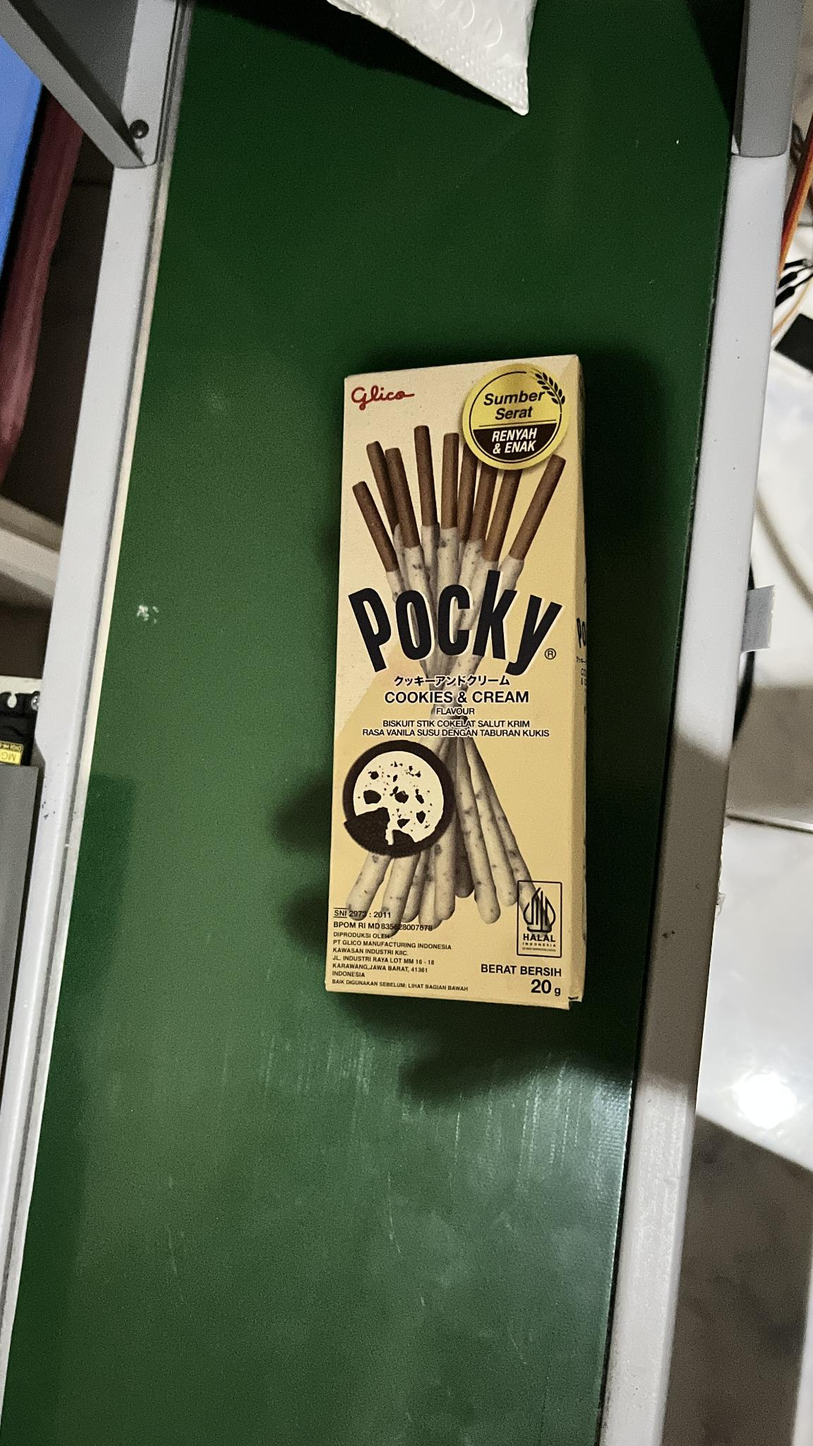Kertas: (348, 362, 588, 1015)
